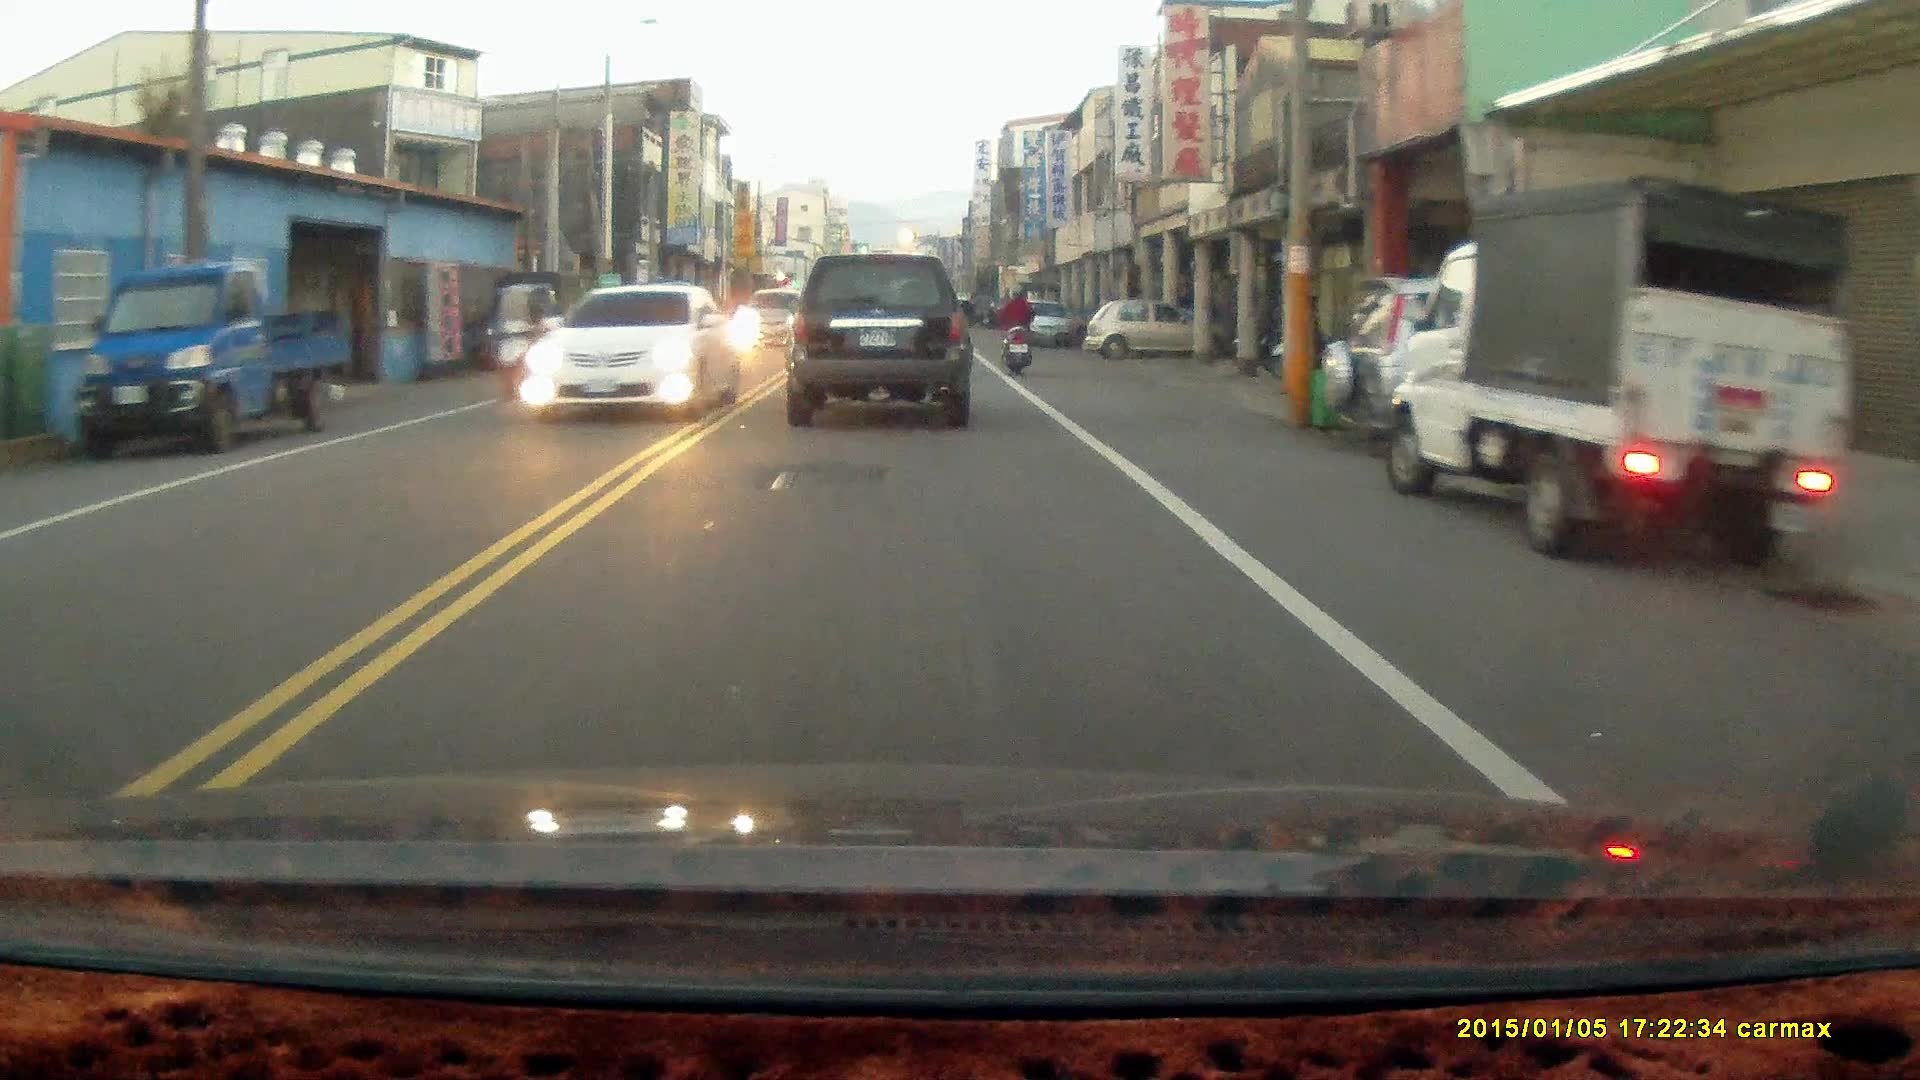rider: (484, 279, 542, 395), (997, 278, 1034, 373)
vehicle: (1384, 173, 1861, 572), (1324, 276, 1740, 450), (58, 261, 350, 460), (783, 249, 979, 427), (516, 280, 745, 419), (1085, 296, 1197, 357), (1014, 299, 1073, 349)
